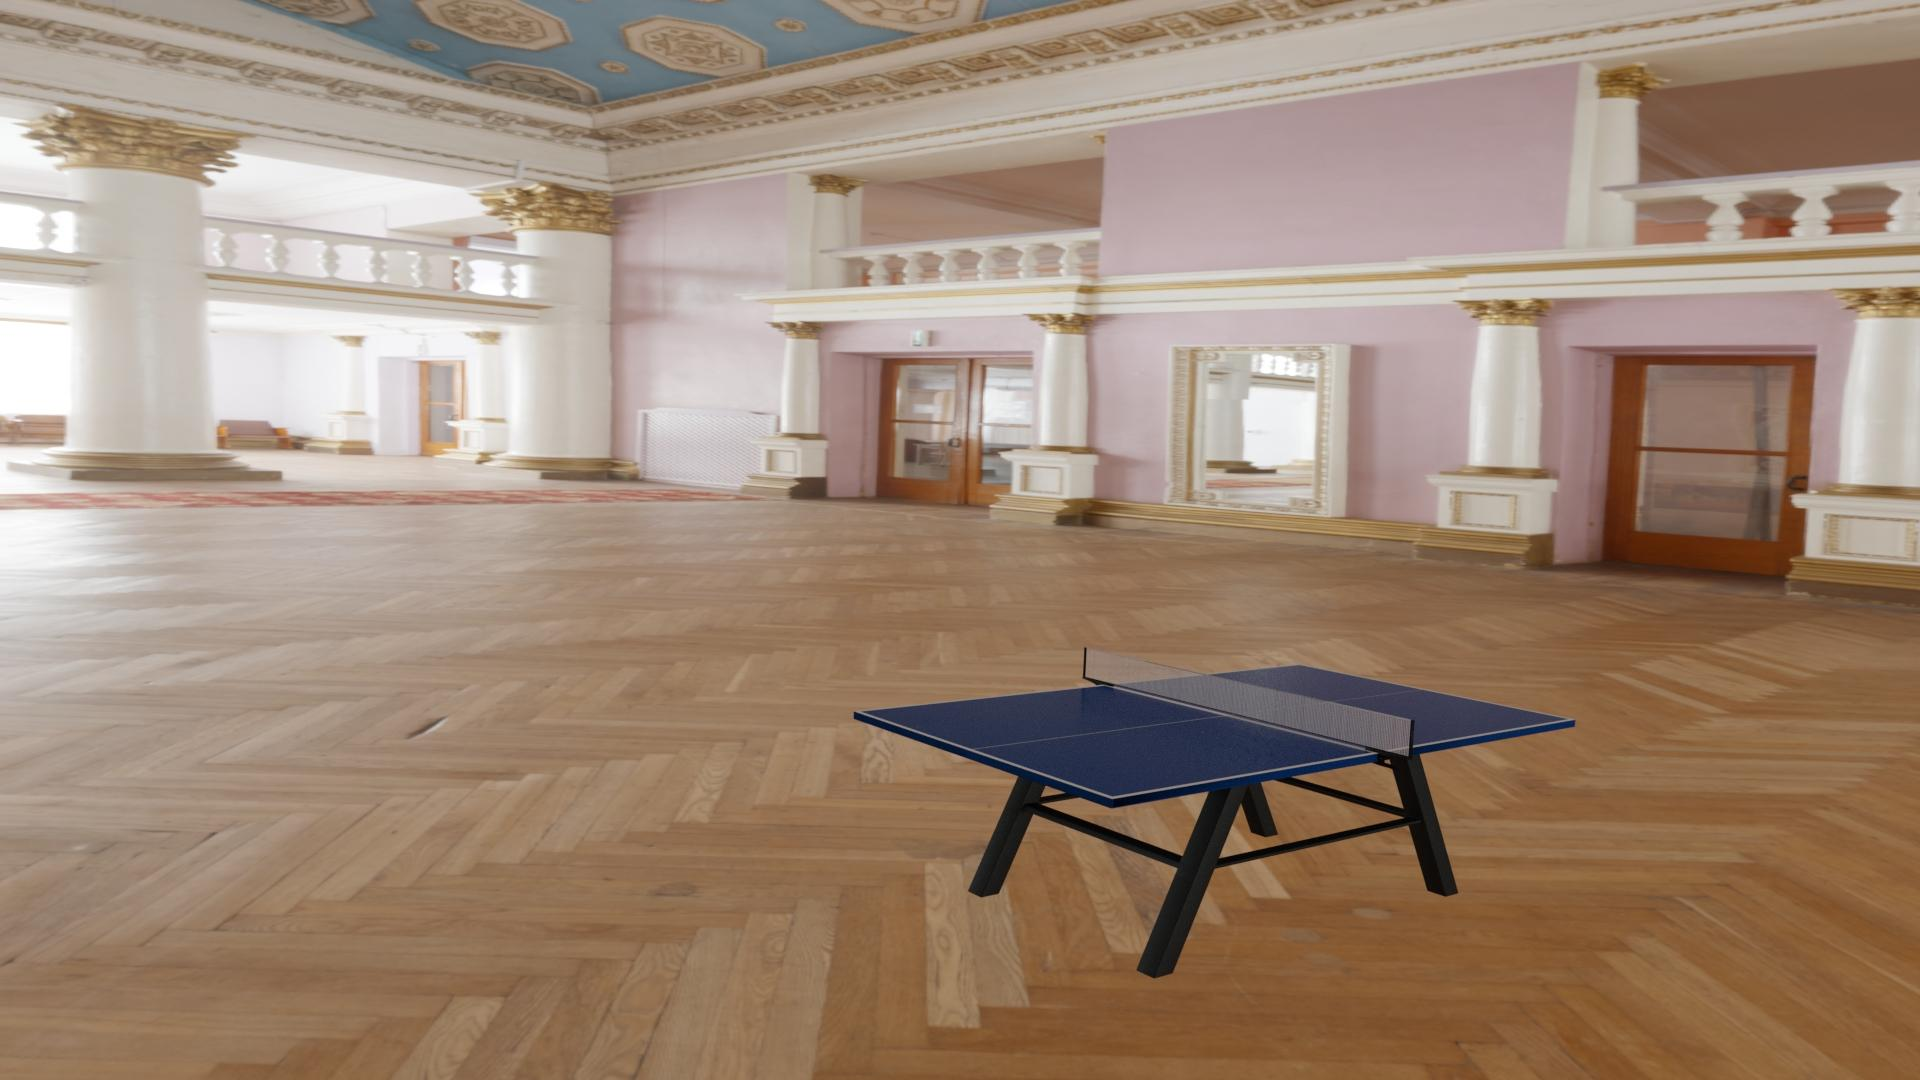table: (860, 665, 1569, 796)
